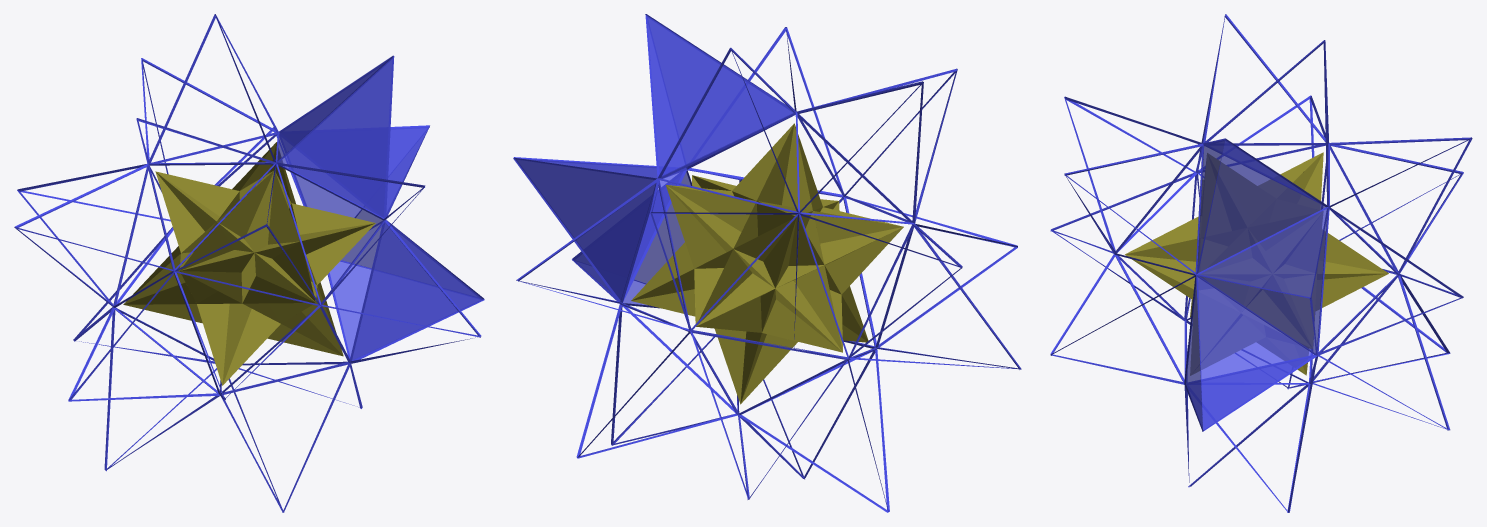
The model's file is dualidad4.glb.
3 renders of one model, left to right at view 1: azimuth 30°, elevation 25°; view 2: azimuth 150°, elevation 25°; view 3: azimuth 270°, elevation 25°, orthographic. The views are drawn at different scales.
Visible parts, largest first — view 1: Solid.005, Solid.011, Solid.007; view 2: Solid.005, Solid.007, Solid.011; view 3: Solid.011, Solid.005, Solid.007.
Boxes of the visible parts, x1=… form: Solid.005: x1=123, y1=142, x2=375, y2=385; Solid.011: x1=277, y1=57, x2=482, y2=360; Solid.007: x1=14, y1=14, x2=484, y2=512; Solid.005: x1=631, y1=123, x2=903, y2=404; Solid.007: x1=513, y1=14, x2=1021, y2=512; Solid.011: x1=515, y1=15, x2=792, y2=305; Solid.011: x1=1185, y1=139, x2=1327, y2=430; Solid.005: x1=1125, y1=152, x2=1388, y2=375; Solid.007: x1=1050, y1=14, x2=1472, y2=512.
Size of the model in its own units: 6.47 by 6.67 by 5.71.
